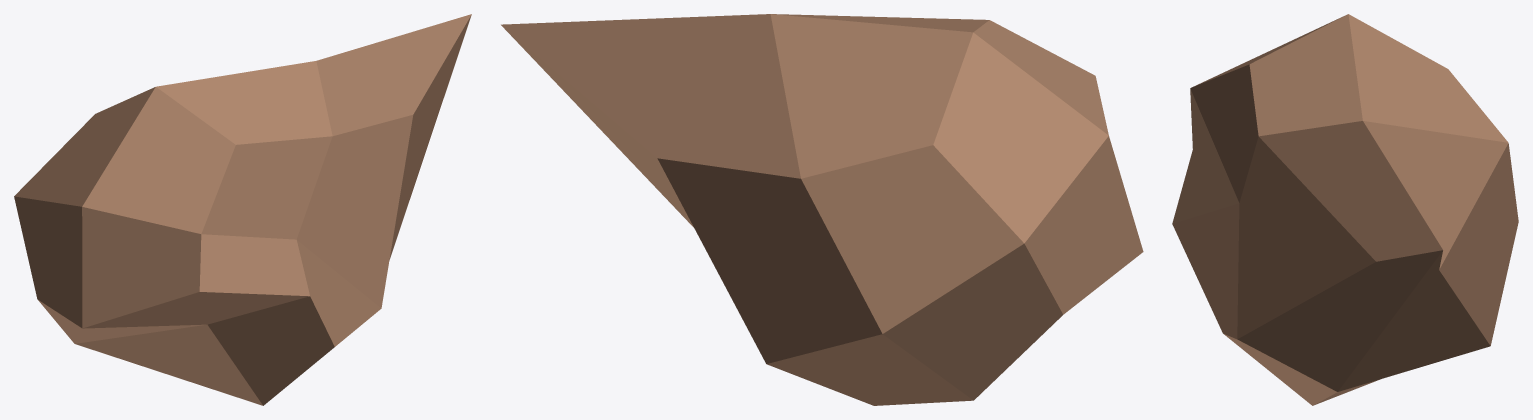
Rendered from Pebble1.fbx.
The picture shows the model from 3 angles, left to right: view 1: azimuth 30°, elevation 25°; view 2: azimuth 150°, elevation 25°; view 3: azimuth 270°, elevation 25°; orthographic projection. The views are drawn at different scales.
Visible parts, largest first — view 1: Pebble; view 2: Pebble; view 3: Pebble.
Part boxes in pixels (x1,y1,x2,y2): Pebble: (14, 14, 471, 405); Pebble: (501, 14, 1143, 405); Pebble: (1172, 14, 1518, 405).
Size of the model in its own units: 0.1468 by 0.098 by 0.089.
1 material, 1 textured.
